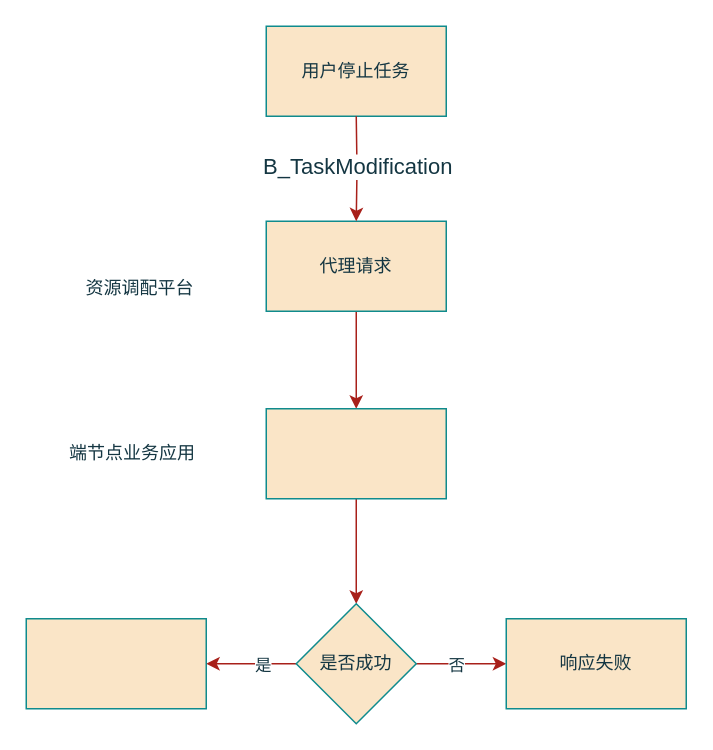
Image size: 713x750. Some labels were removed from this diagram. The shapes that lost their labels are listed below. From the top down, each one's centre as x and y in pixels, then its label:
At point 355,453: "停止主通道的B_Pscan，然后用新参数启动".
At point 115,663: "响应成功".
